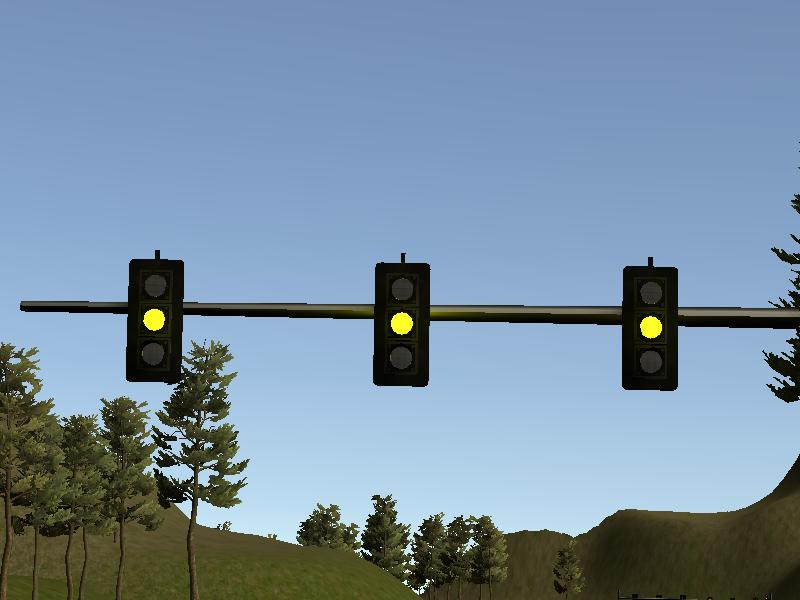yellow: (373, 260, 429, 387), (622, 264, 678, 391), (126, 257, 182, 383)
